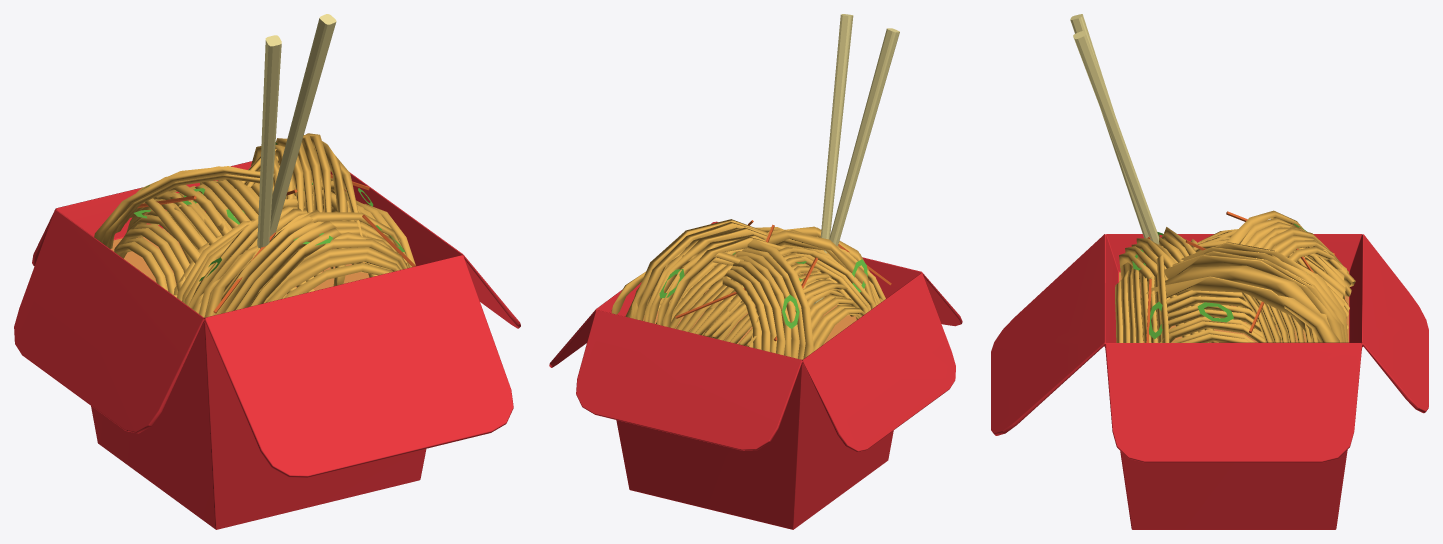
File: SM_Noodle_Box_01.fbx
3 views of the same model, side by side, from view 1: azimuth 30°, elevation 25°; view 2: azimuth 150°, elevation 25°; view 3: azimuth 270°, elevation 25° (orthographic). The views are drawn at different scales.
Parts seen in each view (by area): view 1: SM_Noodle_Box_01_Box, SM_Noodle_Box_01_Noodles, SM_Noodle_Box_01_Chopsticks, SM_Noodle_Box_01_Plane, SM_Noodle_Box_01_Carrots, SM_Noodle_Box_01_Onions; view 2: SM_Noodle_Box_01_Box, SM_Noodle_Box_01_Noodles, SM_Noodle_Box_01_Chopsticks, SM_Noodle_Box_01_Onions, SM_Noodle_Box_01_Carrots, SM_Noodle_Box_01_Plane; view 3: SM_Noodle_Box_01_Box, SM_Noodle_Box_01_Noodles, SM_Noodle_Box_01_Chopsticks, SM_Noodle_Box_01_Onions, SM_Noodle_Box_01_Carrots.
Part boxes in pixels (<box>): SM_Noodle_Box_01_Box: <box>14,161,520,529</box>; SM_Noodle_Box_01_Noodles: <box>94,133,415,317</box>; SM_Noodle_Box_01_Chopsticks: <box>257,14,336,248</box>; SM_Noodle_Box_01_Plane: <box>110,228,369,294</box>; SM_Noodle_Box_01_Carrots: <box>137,174,415,313</box>; SM_Noodle_Box_01_Onions: <box>134,142,404,281</box>; SM_Noodle_Box_01_Box: <box>549,221,962,529</box>; SM_Noodle_Box_01_Noodles: <box>611,219,885,359</box>; SM_Noodle_Box_01_Chopsticks: <box>813,14,899,304</box>; SM_Noodle_Box_01_Onions: <box>659,252,867,328</box>; SM_Noodle_Box_01_Carrots: <box>675,220,891,341</box>; SM_Noodle_Box_01_Plane: <box>643,289,856,344</box>; SM_Noodle_Box_01_Box: <box>991,234,1428,529</box>; SM_Noodle_Box_01_Noodles: <box>1115,210,1355,342</box>; SM_Noodle_Box_01_Chopsticks: <box>1070,14,1159,244</box>; SM_Noodle_Box_01_Onions: <box>1132,223,1307,339</box>; SM_Noodle_Box_01_Carrots: <box>1146,211,1334,342</box>.
Size of the model in its own units: 2 by 2.53 by 2.25.
